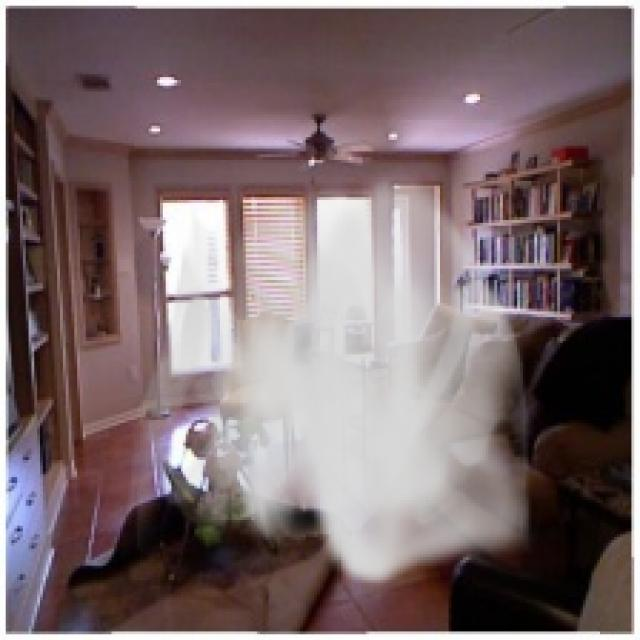smoke: (126, 163, 543, 588)
